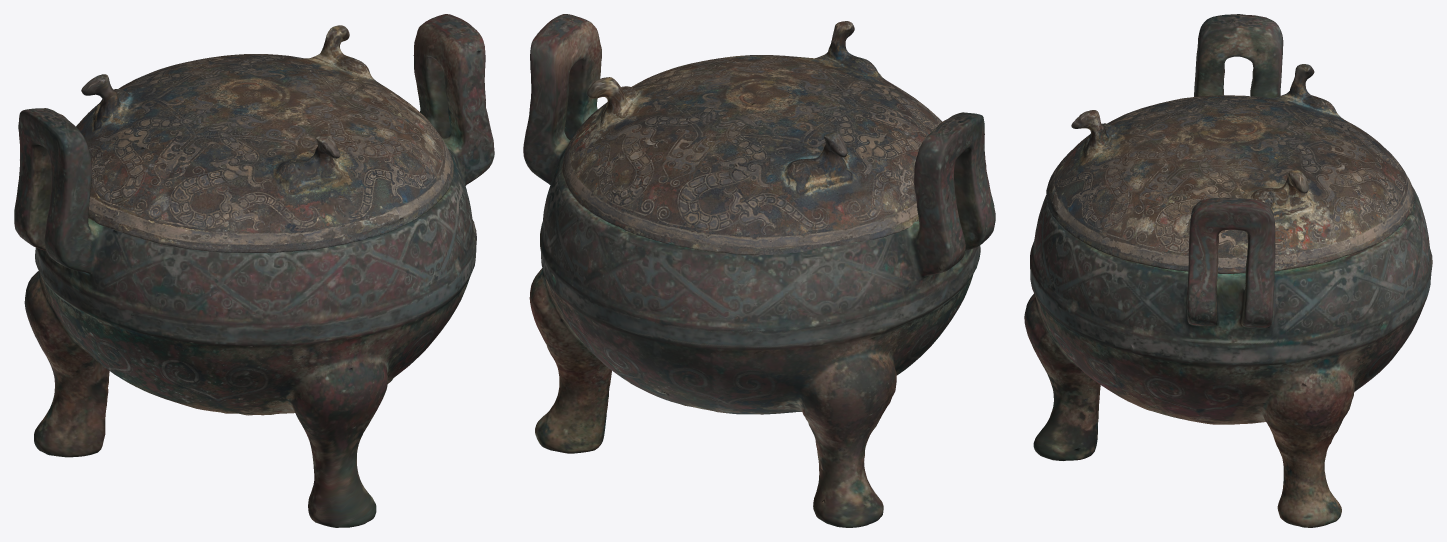
The model's file is animated_bronze_ding_food_vessel_5th_c_bce.glb.
3 views of the same model, side by side, from view 1: azimuth 30°, elevation 25°; view 2: azimuth 150°, elevation 25°; view 3: azimuth 270°, elevation 25° (orthographic). The views are drawn at different scales.
Visible parts, largest first — view 1: 150924_mia337_001138_a_406_64Kmesh_obj_2, 150924_mia337_001138_b_OBJ_3; view 2: 150924_mia337_001138_a_406_64Kmesh_obj_2, 150924_mia337_001138_b_OBJ_3; view 3: 150924_mia337_001138_a_406_64Kmesh_obj_2, 150924_mia337_001138_b_OBJ_3.
Boxes of the visible parts, left/top/right/bottom form: 150924_mia337_001138_a_406_64Kmesh_obj_2: left=14, top=14, right=494, bottom=527; 150924_mia337_001138_b_OBJ_3: left=76, top=25, right=453, bottom=252; 150924_mia337_001138_a_406_64Kmesh_obj_2: left=523, top=14, right=995, bottom=527; 150924_mia337_001138_b_OBJ_3: left=562, top=21, right=942, bottom=254; 150924_mia337_001138_a_406_64Kmesh_obj_2: left=1024, top=14, right=1432, bottom=527; 150924_mia337_001138_b_OBJ_3: left=1046, top=64, right=1414, bottom=273.
Bounding box in the file's own units: 0.3921 × 0.3263 × 0.3501.
2 materials, 2 textured.
